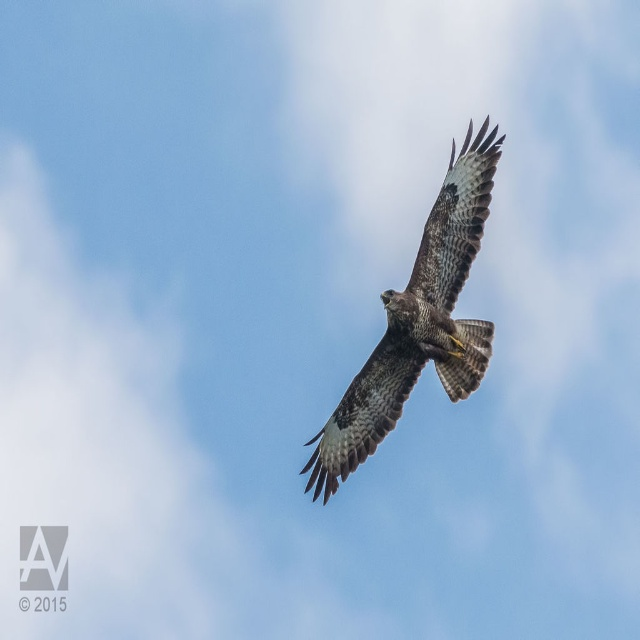Eagle: (297, 108, 506, 508)
